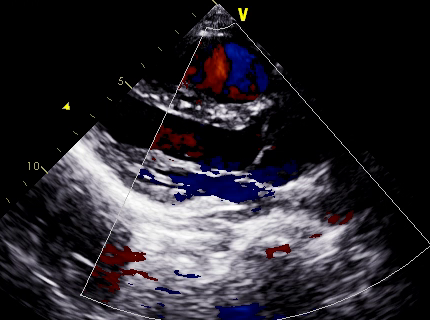AR: (163, 123, 215, 163)
